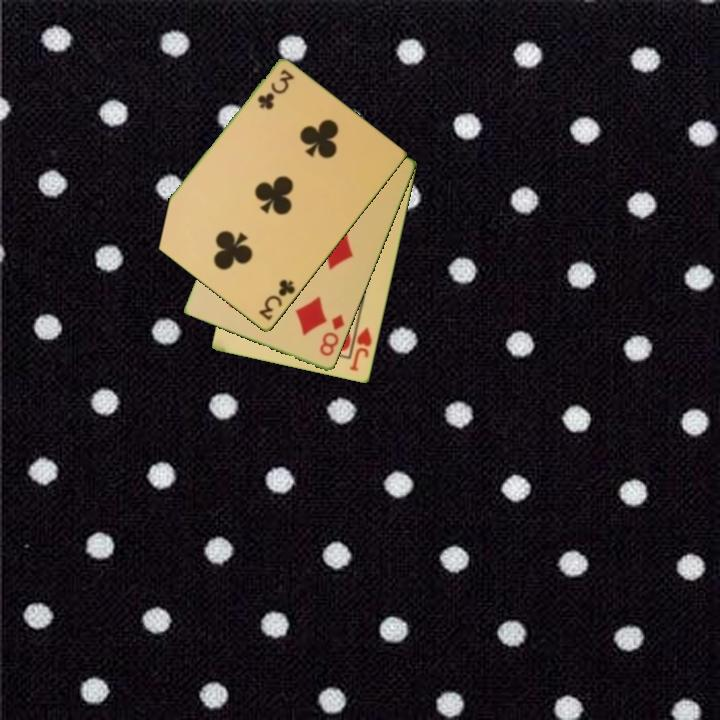3c: (255, 276, 298, 324), (254, 66, 297, 113)
8d: (316, 311, 348, 359)
Jh: (346, 318, 375, 374)
